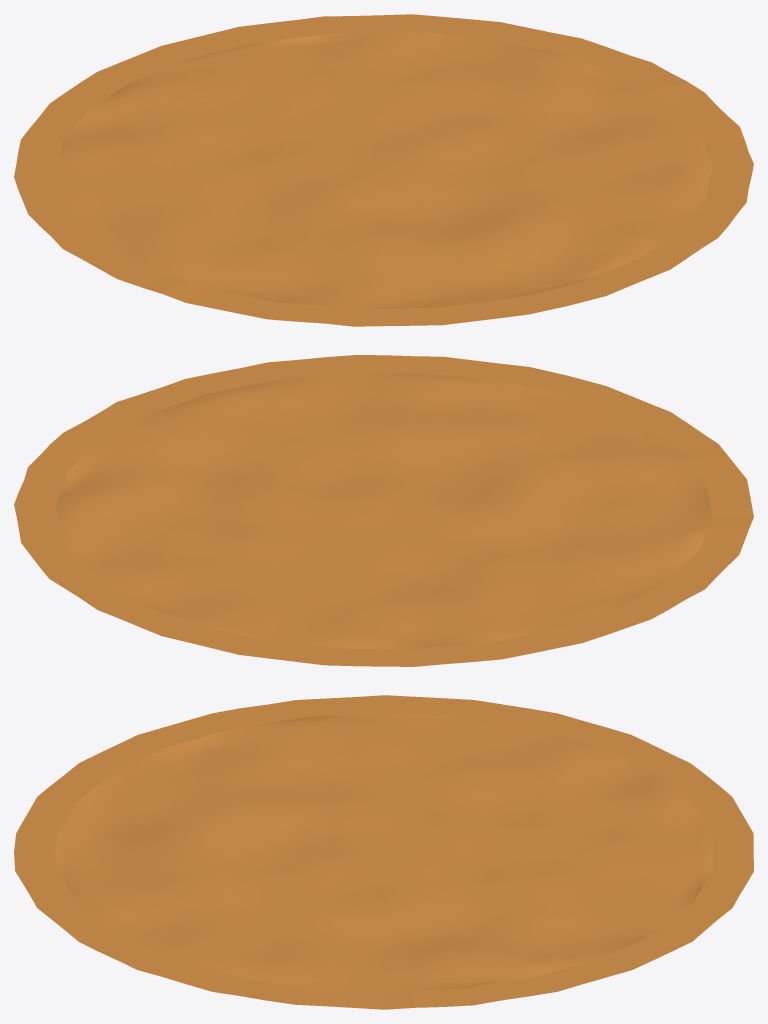
Rendered from New Floor.FBX.
The picture shows the model from 3 angles, top to bottom: view 1: azimuth 30°, elevation 25°; view 2: azimuth 150°, elevation 25°; view 3: azimuth 270°, elevation 25°; orthographic projection.
Parts seen in each view (by area): view 1: Floor003; view 2: Floor003; view 3: Floor003.
Boxes of the visible parts, left/top/right/bottom form: Floor003: left=14, top=14, right=753, bottom=326; Floor003: left=14, top=355, right=753, bottom=666; Floor003: left=14, top=695, right=753, bottom=1009.
Size of the model in its own units: 2051 by 2039 by 22.31.
Materials: 1 (1 with a texture image).
